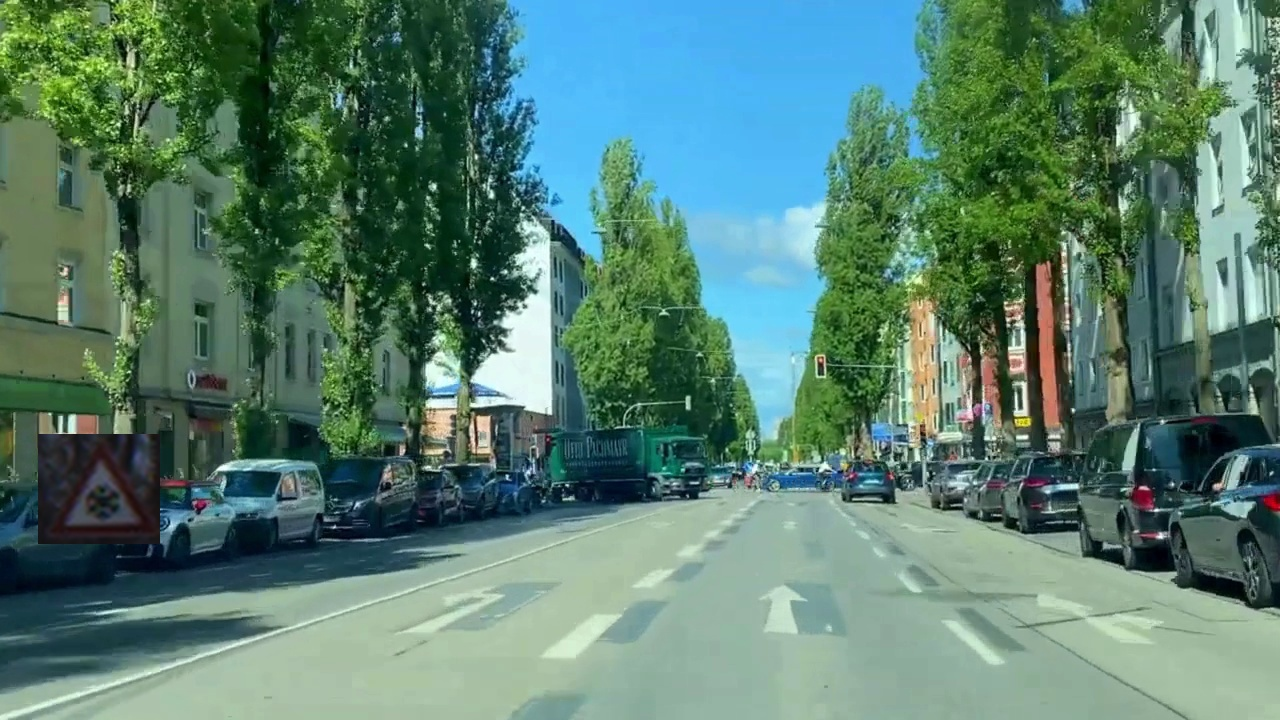Ice/snow: (38, 434, 160, 544)
